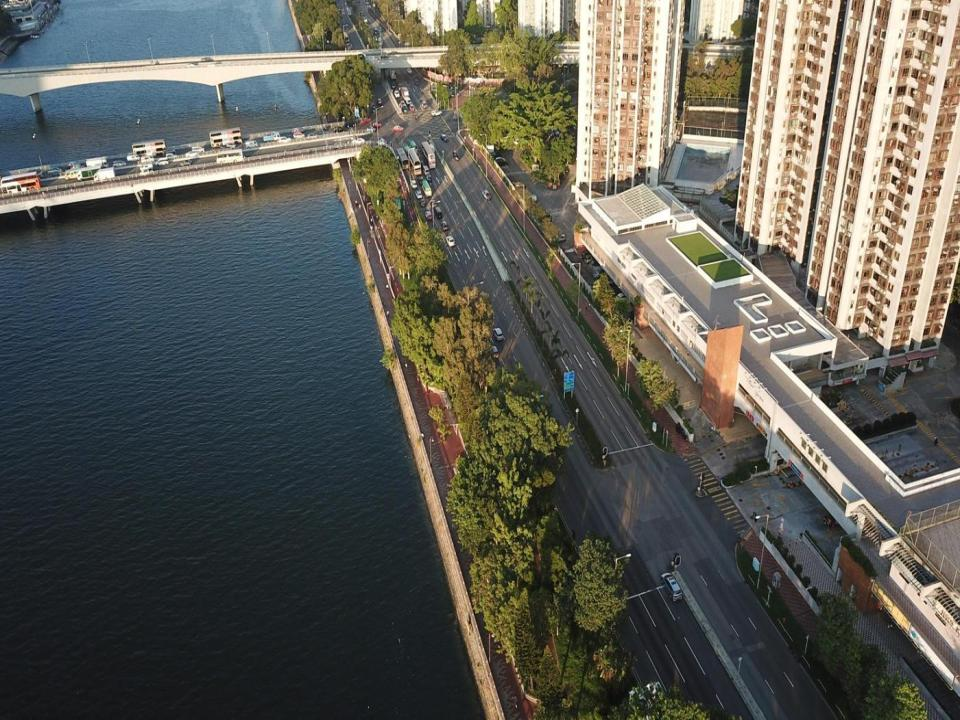bus: (1, 171, 41, 193), (209, 127, 242, 148), (132, 140, 166, 157), (421, 141, 436, 169), (216, 150, 243, 164), (407, 148, 421, 175), (396, 147, 408, 170), (422, 179, 431, 197), (409, 140, 418, 154), (342, 31, 350, 45)
car: (660, 572, 683, 601), (592, 268, 608, 278), (154, 156, 169, 166), (616, 292, 631, 301), (495, 156, 508, 166), (493, 327, 503, 340), (489, 344, 498, 358), (71, 164, 85, 172), (140, 168, 154, 176), (549, 125, 559, 136), (482, 189, 491, 201), (66, 162, 81, 169), (113, 161, 126, 169), (446, 236, 456, 246), (278, 137, 292, 144), (403, 144, 410, 158), (46, 167, 62, 173), (360, 116, 372, 124), (392, 125, 404, 133), (185, 151, 198, 158), (307, 132, 320, 139), (452, 150, 461, 160), (545, 127, 554, 137), (365, 125, 376, 133), (441, 220, 449, 231), (372, 121, 382, 129), (409, 179, 417, 189), (179, 159, 192, 165), (431, 109, 442, 116), (582, 250, 593, 257), (425, 210, 432, 220), (292, 128, 303, 134), (355, 53, 366, 59), (346, 43, 354, 51), (440, 134, 448, 142), (394, 88, 400, 98), (400, 104, 407, 112), (378, 138, 387, 144), (421, 101, 427, 109), (409, 103, 415, 111), (415, 190, 421, 198), (418, 176, 423, 185), (405, 99, 411, 106), (420, 198, 425, 206), (406, 68, 412, 74), (413, 79, 419, 85), (391, 82, 396, 89), (426, 174, 431, 181), (372, 105, 376, 113), (360, 9, 364, 17), (400, 100, 404, 108), (370, 29, 374, 35), (378, 98, 382, 103), (380, 28, 384, 32), (366, 57, 374, 59)
truck: (77, 164, 101, 181), (94, 167, 115, 182), (85, 157, 109, 169), (262, 132, 281, 142), (386, 64, 396, 79), (400, 86, 410, 99)
van: (65, 167, 92, 179), (126, 153, 141, 161), (140, 154, 154, 162), (584, 253, 596, 262), (245, 141, 258, 149), (434, 206, 442, 219), (422, 164, 430, 176), (163, 150, 176, 157), (192, 146, 204, 153), (292, 132, 304, 139), (140, 164, 153, 170), (334, 126, 346, 132), (362, 14, 368, 24), (378, 36, 383, 46), (380, 53, 388, 59), (374, 27, 378, 34)
